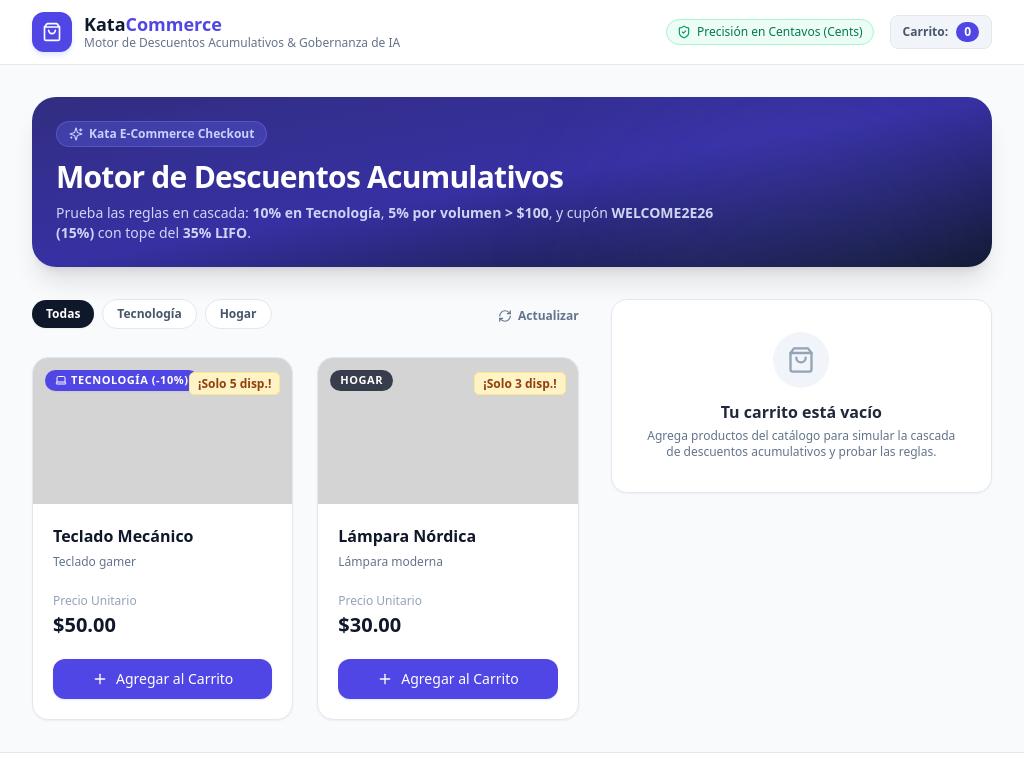
it: App Component (Integración Principal) › debe permitir filtrar productos por categoría
Expected: the heading "Teclado Mecánico" is shown, top-left (53, 525), bottom-right (194, 547)
# Filtrar por 'Hogar'
What coordinates should you click on to do the following:
click the button with test id "filter-category-Hogar"
I would click on:
 (238, 314)
Its box is top-left (205, 299), bottom-right (272, 329).
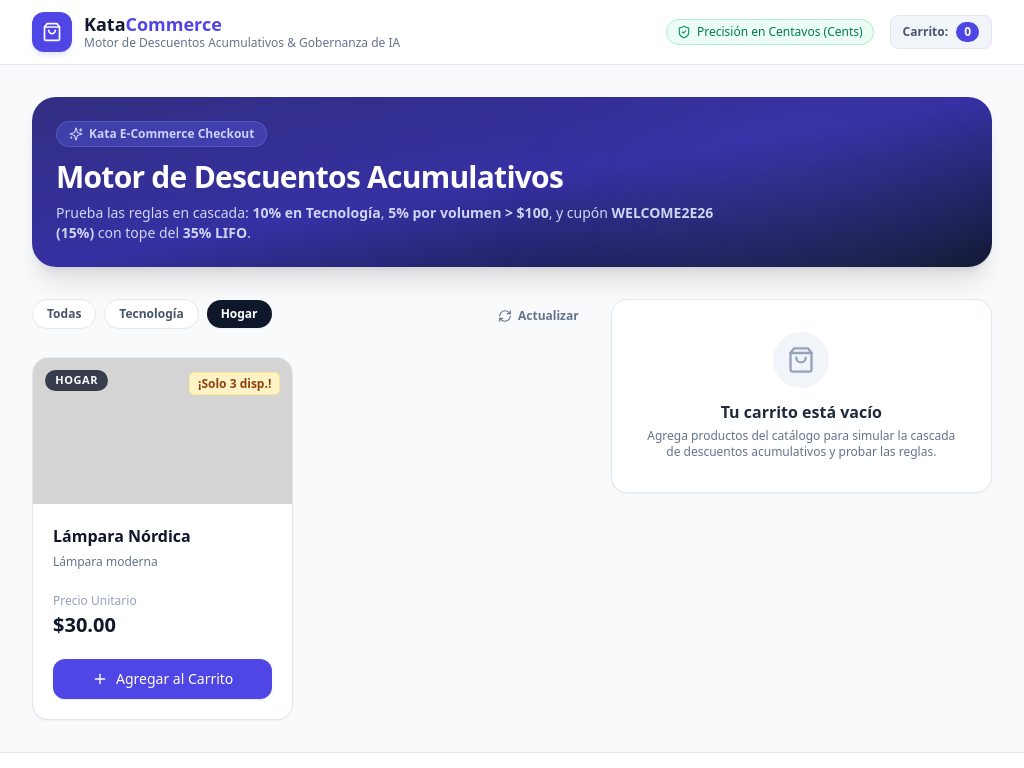
Expected: the heading "Lámpara Nórdica" is shown, top-left (53, 525), bottom-right (191, 547)
Expected: the heading "Teclado Mecánico" is gone
